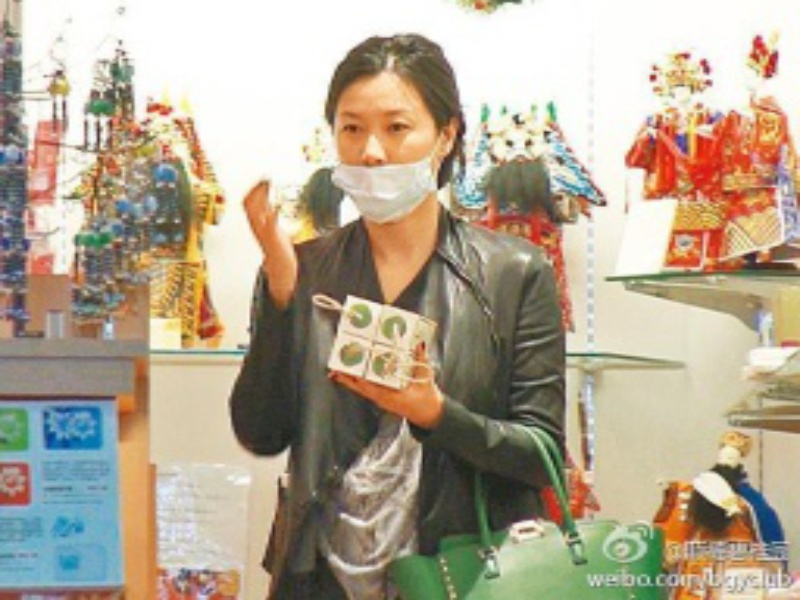ManaoArotava: (307, 16, 482, 268)
